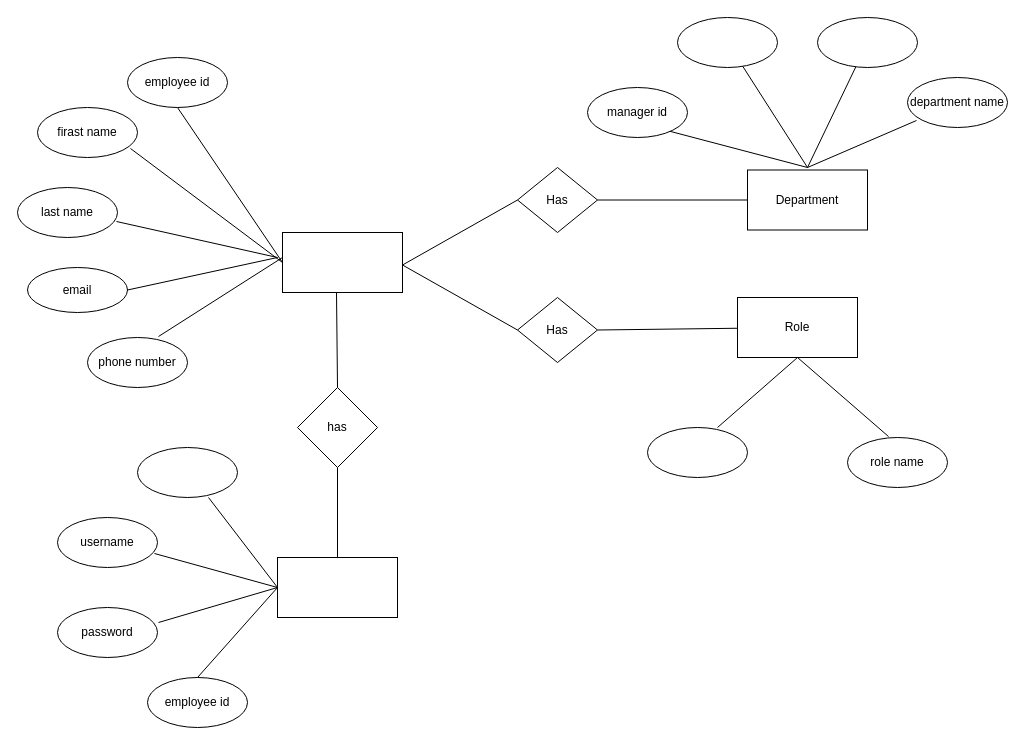
Image size: 1025x745. Some labels were removed from this diagram. The shapes that lost their labels are listed below. From the top down, each one's box as (x1, y1, x2, y2) in pixels, then its label:
(676, 16, 778, 68): budget
(816, 16, 918, 68): department id
(282, 232, 402, 292): Employee
(136, 446, 238, 498): login id
(646, 426, 748, 478): role id
(276, 556, 398, 618): Login
